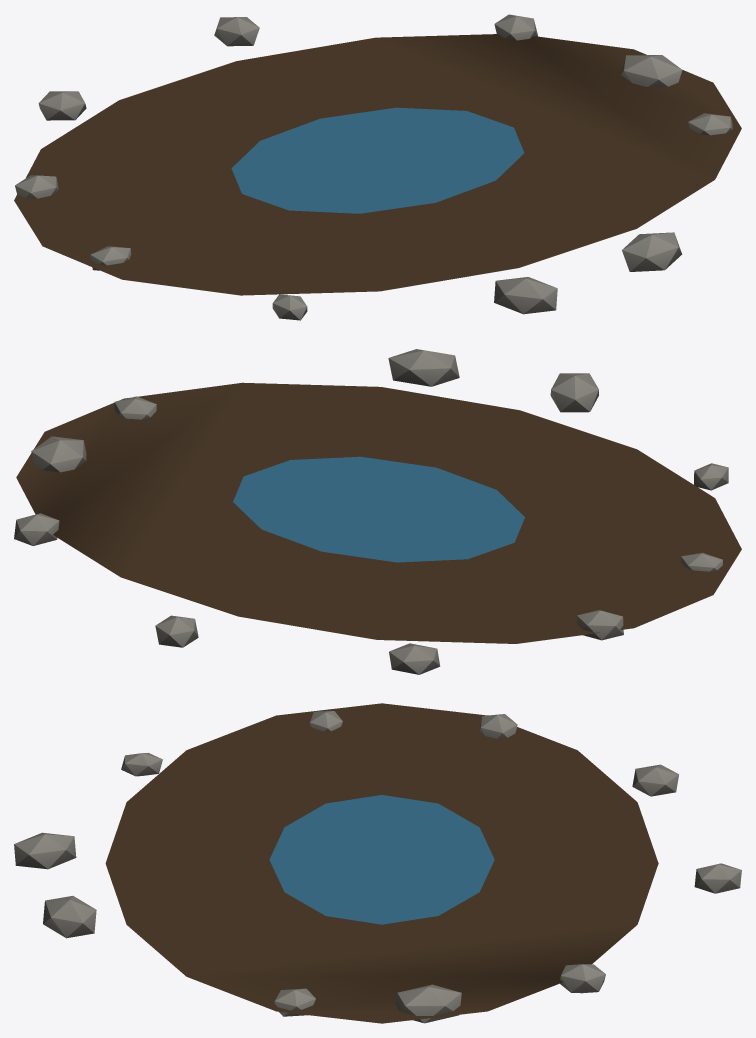
Rendered from struct_rain_garden.glb.
3 views of the same model, one above another, from view 1: azimuth 30°, elevation 25°; view 2: azimuth 150°, elevation 25°; view 3: azimuth 270°, elevation 25° (orthographic). The views are drawn at different scales.
Visible parts, largest first — view 1: mulch, water, stones; view 2: mulch, water, stones; view 3: mulch, water, stones.
Part boxes in pixels (<box>): mulch: <box>14,34,741,295</box>; water: <box>231,107,524,213</box>; stones: <box>15,14,732,320</box>; mulch: <box>16,382,741,643</box>; water: <box>233,456,524,562</box>; stones: <box>14,349,728,674</box>; mulch: <box>105,703,658,1023</box>; water: <box>269,795,494,924</box>; stones: <box>14,711,741,1023</box>.
Size of the model in its own units: 3.7 by 0.1844 by 3.55.
